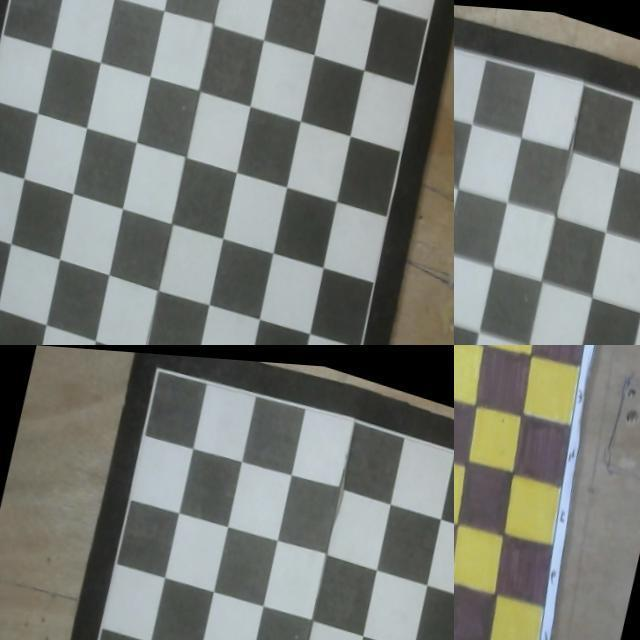chess-table-corners: (454, 24, 460, 39), (37, 0, 47, 5), (438, 0, 447, 5), (154, 363, 159, 370), (594, 345, 600, 348)
